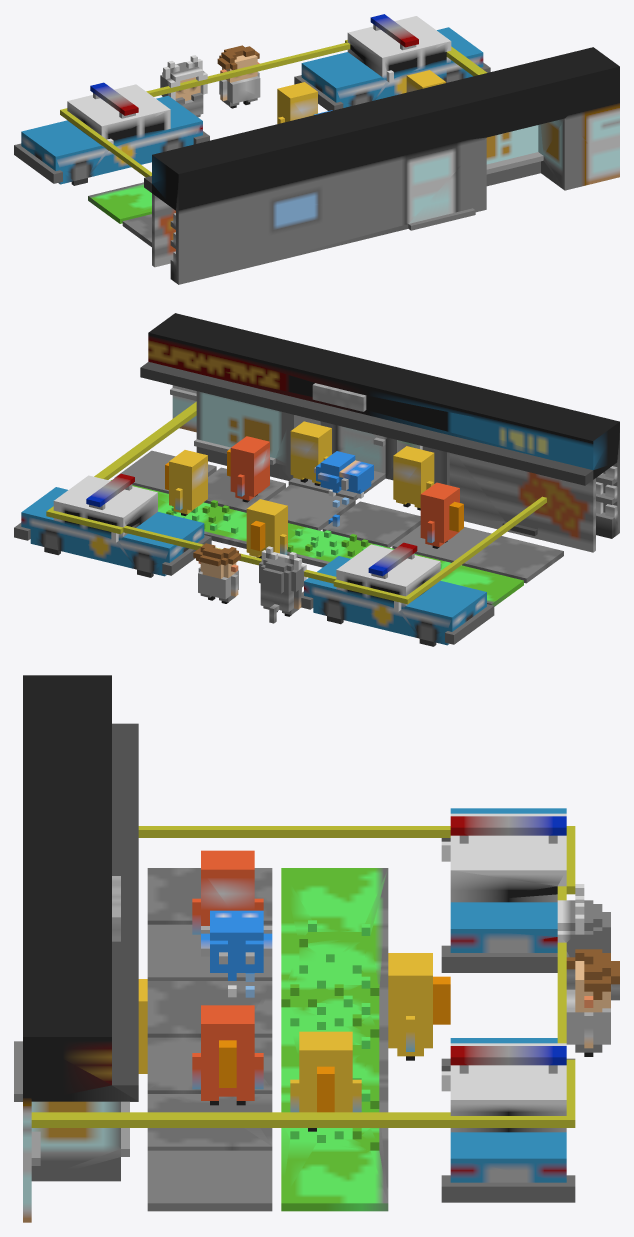
File: scene_hazmat.dae
The picture shows the model from 3 angles, top to bottom: view 1: azimuth 30°, elevation 25°; view 2: azimuth 150°, elevation 25°; view 3: azimuth 270°, elevation 25°; orthographic projection. The views are drawn at different scales.
Visible parts, largest first — view 1: scene_hazmat; view 2: scene_hazmat; view 3: scene_hazmat.
Part boxes in pixels (<box>): scene_hazmat: <box>14,14,619,284</box>; scene_hazmat: <box>14,313,619,646</box>; scene_hazmat: <box>14,675,619,1222</box>.
Bounding box in the file's own units: 9.6 × 6.8 × 2.3.
Materials: 1 (1 with a texture image).
